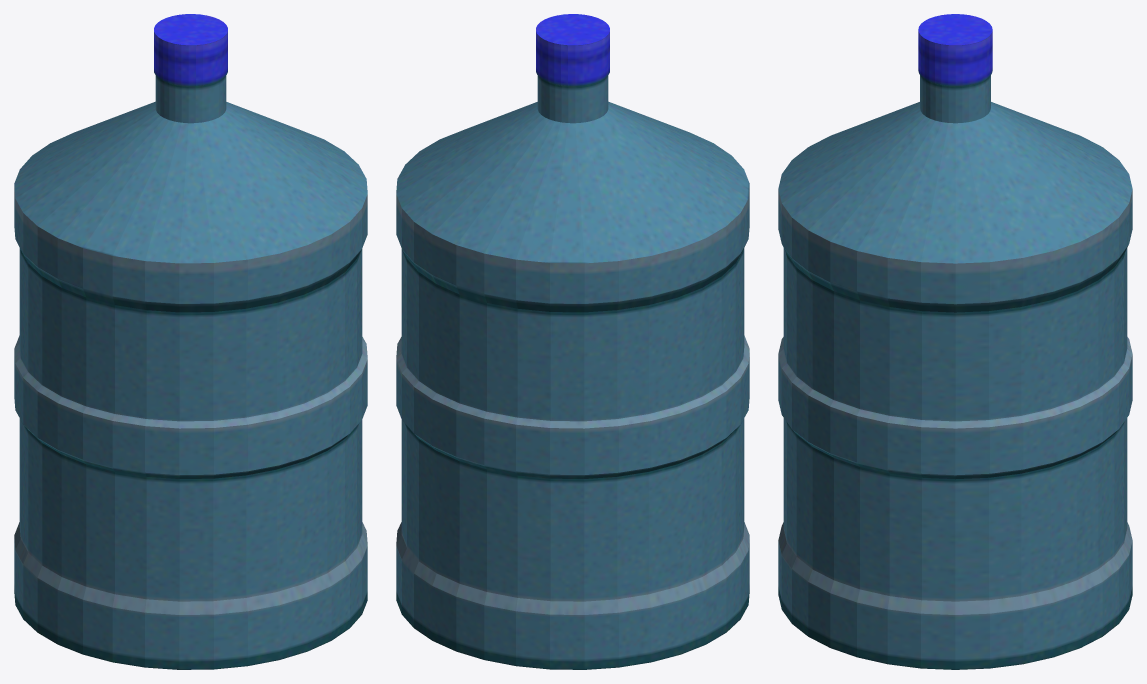
The model's file is waterjug.fbx.
3 renders of one model, left to right at view 1: azimuth 30°, elevation 25°; view 2: azimuth 150°, elevation 25°; view 3: azimuth 270°, elevation 25°, orthographic.
Visible parts, largest first — view 1: Cylinder; view 2: Cylinder; view 3: Cylinder.
Boxes of the visible parts, <box> form: Cylinder: <box>14,14,367,669</box>; Cylinder: <box>396,14,749,669</box>; Cylinder: <box>778,14,1132,669</box>.
Size of the model in its own units: 0.2774 by 0.4885 by 0.2774.
